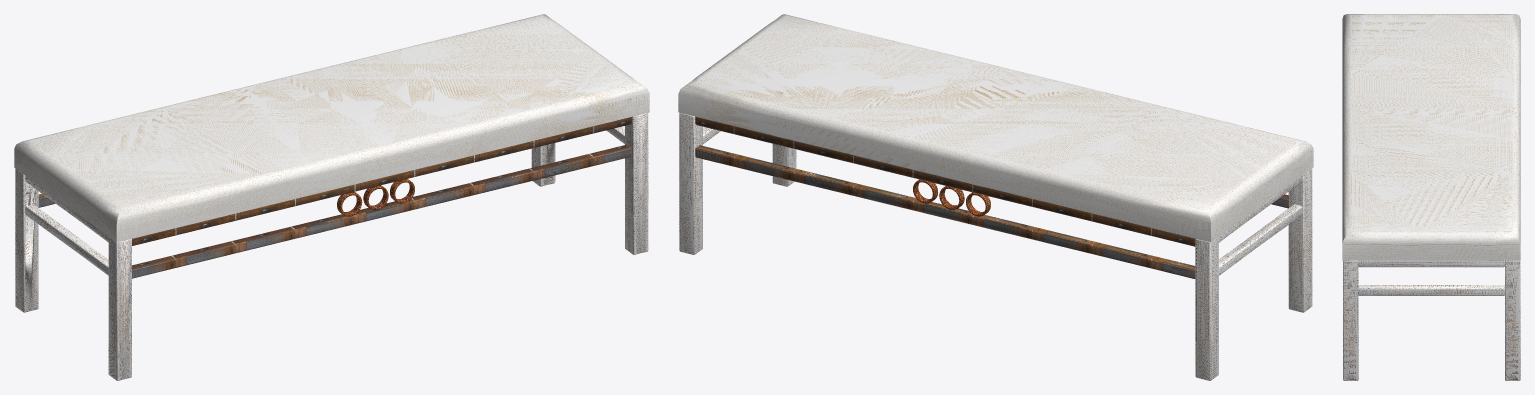
3 views of the same model, side by side, from view 1: azimuth 30°, elevation 25°; view 2: azimuth 150°, elevation 25°; view 3: azimuth 270°, elevation 25° (orthographic). The views are drawn at different scales.
Parts seen in each view (by area): view 1: mesh13_mesh13-geometry, mesh10_mesh10-geometry, mesh11_mesh11-geometry, mesh9_mesh9-geometry, mesh8_mesh8-geometry, mesh7_mesh7-geometry; view 2: mesh13_mesh13-geometry, mesh9_mesh9-geometry, mesh12_mesh12-geometry, mesh7_mesh7-geometry, mesh10_mesh10-geometry, mesh8_mesh8-geometry; view 3: mesh13_mesh13-geometry, mesh7_mesh7-geometry, mesh8_mesh8-geometry.
Part boxes in pixels (x1,y1,x2,y2): mesh13_mesh13-geometry: (14,14,649,242); mesh10_mesh10-geometry: (108,117,631,380); mesh11_mesh11-geometry: (132,144,631,278); mesh9_mesh9-geometry: (15,168,108,312); mesh8_mesh8-geometry: (625,113,648,254); mesh7_mesh7-geometry: (531,126,624,186); mesh13_mesh13-geometry: (678,14,1313,242); mesh9_mesh9-geometry: (695,116,1302,380); mesh12_mesh12-geometry: (695,145,1195,278); mesh7_mesh7-geometry: (679,113,720,254); mesh10_mesh10-geometry: (1288,169,1312,312); mesh8_mesh8-geometry: (772,144,796,186); mesh13_mesh13-geometry: (1342,14,1520,260); mesh7_mesh7-geometry: (1358,260,1520,380); mesh8_mesh8-geometry: (1343,260,1358,380).
Size of the model in its own units: 0.9124 by 0.2737 by 0.3041.
